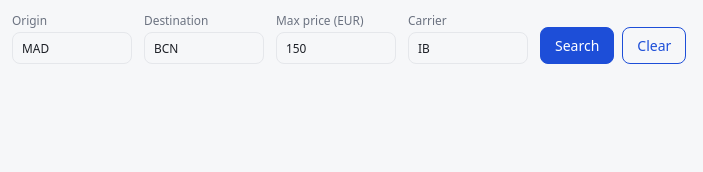
Test case: SearchForm › clear searches again with no filters
The width and height of the screenshot is (703, 172).
Expected: the field labelled "Origin" holds "MAD", [12,32,132,64]
Click the button "Clear". click: (654, 46)
box: [622,27,686,64]
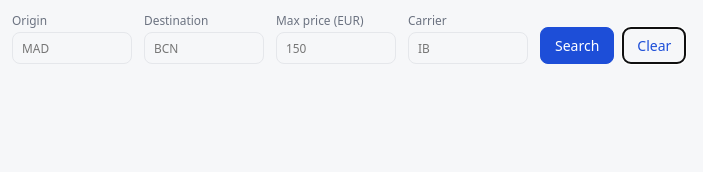
Expected: the field labelled "Origin" is empty, [12,32,132,64]
